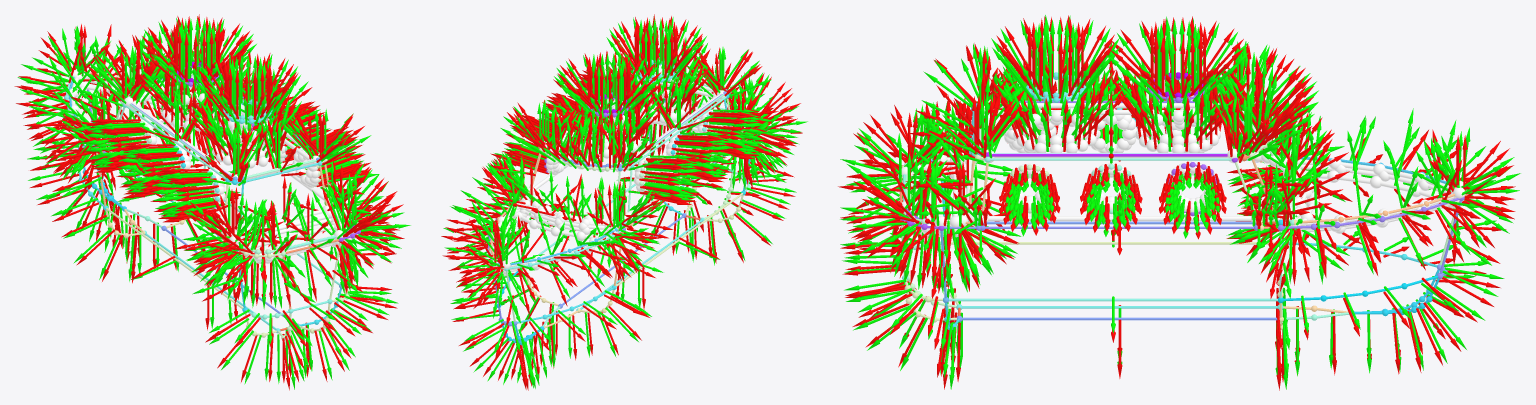
The model's file is onshape_boat.gltf.
3 renders of one model, left to right at view 1: azimuth 30°, elevation 25°; view 2: azimuth 150°, elevation 25°; view 3: azimuth 270°, elevation 25°, orthographic. The views are drawn at different scales.
Bounding box in the file's own units: 0.4532 × 0.5931 × 1.07.
